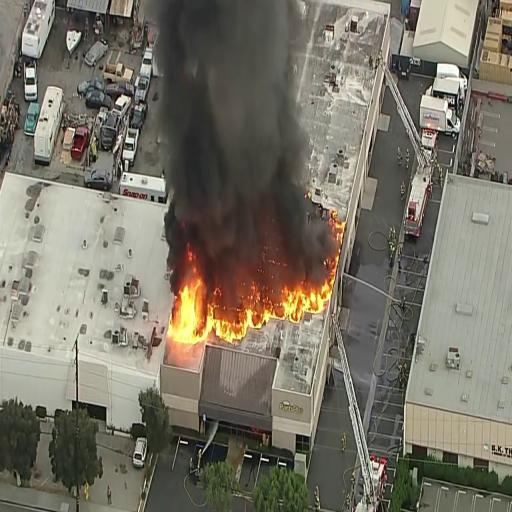fire: (173, 251, 202, 335), (282, 288, 319, 322)
smoke: (163, 0, 269, 211)
